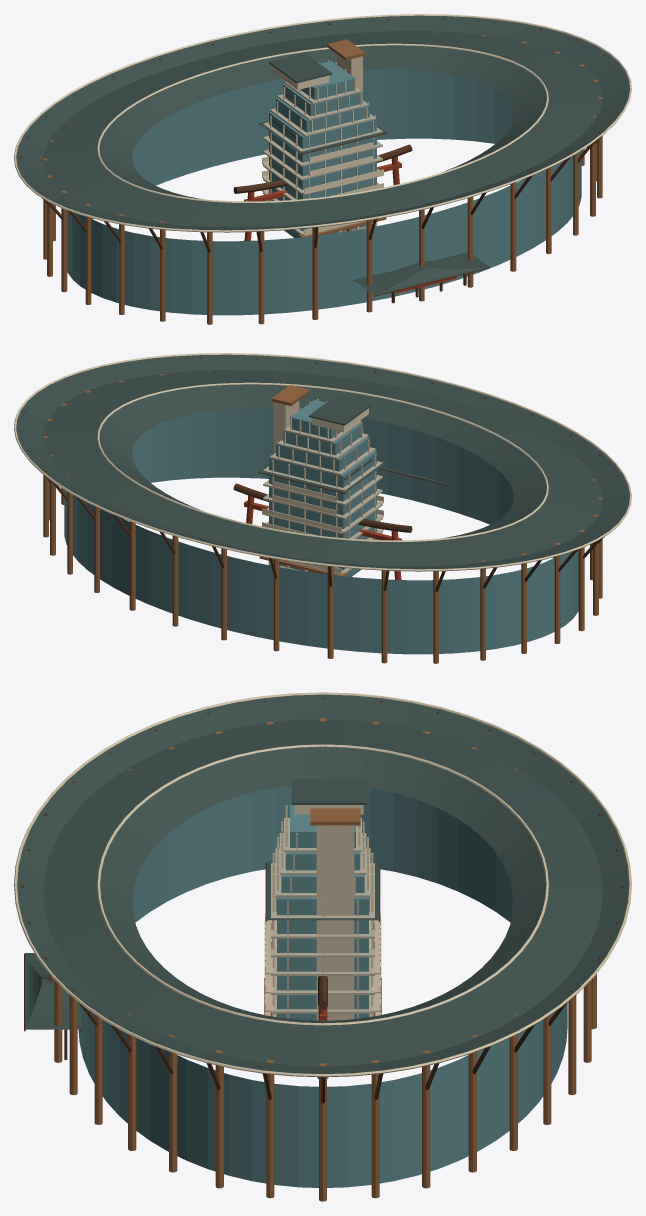
File: library.glb
The picture shows the model from 3 angles, top to bottom: view 1: azimuth 30°, elevation 25°; view 2: azimuth 150°, elevation 25°; view 3: azimuth 270°, elevation 25°; orthographic projection. The views are drawn at different scales.
Parts seen in each view (by area): view 1: kyoto_arena_lod0, modern_office_lod0, modern_apartment_lod0, temple_gate_lod0; view 2: kyoto_arena_lod0, modern_office_lod0, modern_apartment_lod0, temple_gate_lod0; view 3: kyoto_arena_lod0, modern_office_lod0, modern_apartment_lod0.
Boxes of the visible parts, x1,y1,x2,y2 form: kyoto_arena_lod0: (14,14,631,324); modern_office_lod0: (263,39,386,237); modern_apartment_lod0: (258,116,387,235); temple_gate_lod0: (233,144,412,240); kyoto_arena_lod0: (14,353,631,663); modern_office_lod0: (259,385,382,576); modern_apartment_lod0: (258,459,387,574); temple_gate_lod0: (233,483,412,579); kyoto_arena_lod0: (14,692,631,1201); modern_office_lod0: (264,779,381,1020); modern_apartment_lod0: (264,862,381,1015).
Size of what is drawn, in the model's own units: 144 by 40.72 by 98.5.
